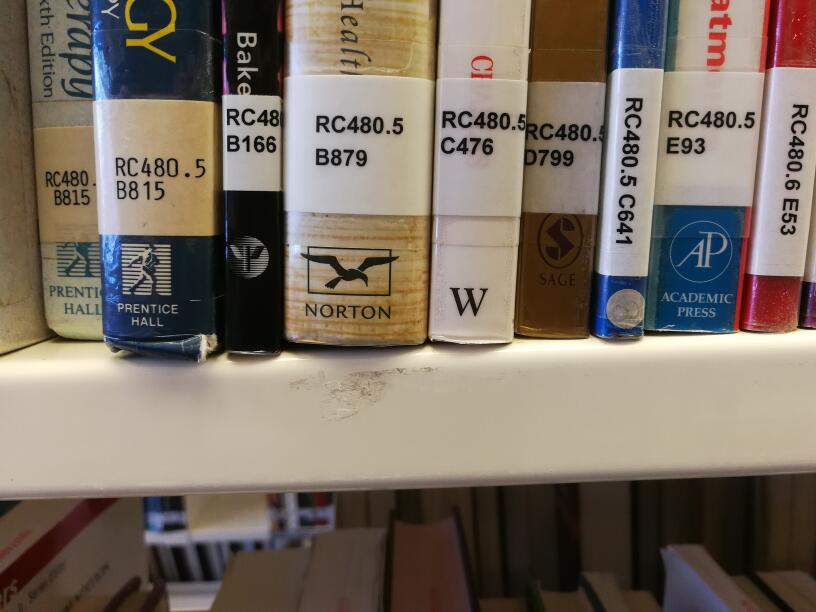booklabel: (312, 114, 403, 168), (613, 94, 645, 247), (663, 107, 757, 158), (112, 155, 206, 201), (779, 99, 810, 237), (439, 109, 528, 155), (524, 121, 607, 168), (224, 106, 280, 154), (41, 167, 97, 208)
